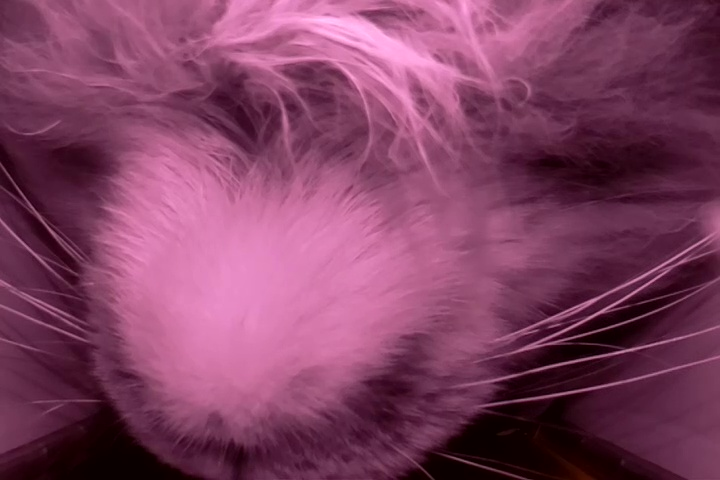Snout: (81, 267, 476, 477)
